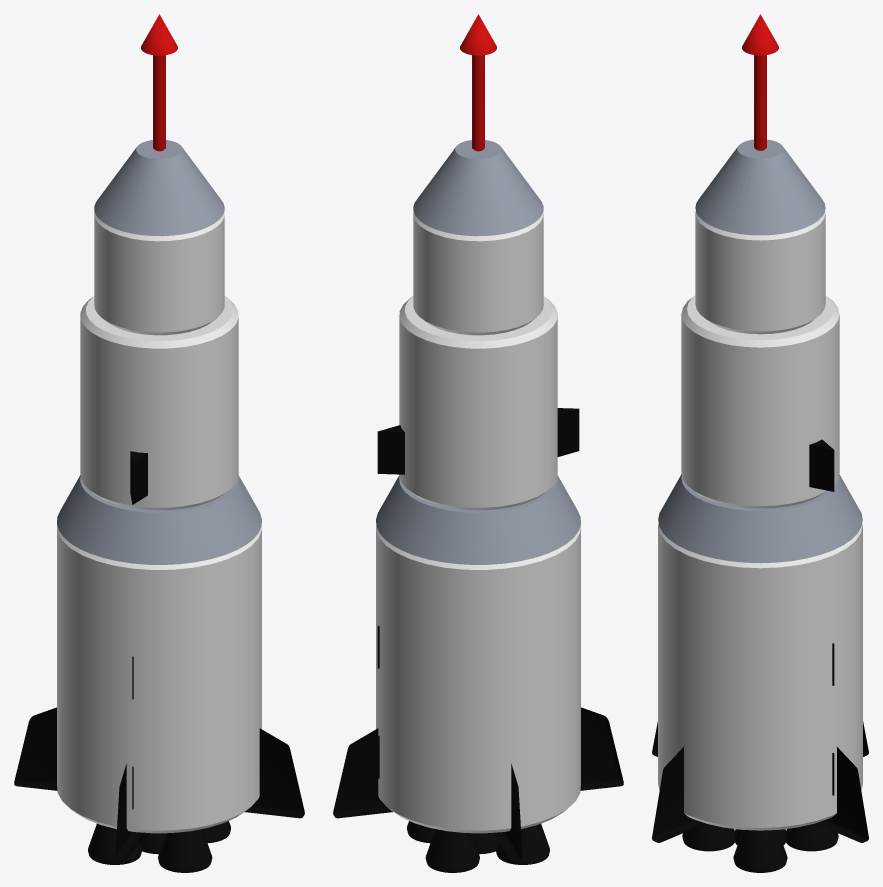
Rendered from Rocket_12_SaturnStack.obj.
3 views of the same model, side by side, from view 1: azimuth 30°, elevation 25°; view 2: azimuth 150°, elevation 25°; view 3: azimuth 270°, elevation 25° (orthographic).
Visible parts, largest first — view 1: R12_Stage1, R12_Stage2, R12_Stage3, R12_Interstage, R12_Capsule, R12_Fin_4, R12_Fin_2, R12_Nozzle_5, R12_Tower, R12_Nozzle_3, R12_Fin_3, R12_TowerTip (+1 smaller); view 2: R12_Stage1, R12_Stage2, R12_Stage3, R12_Interstage, R12_Capsule, R12_Fin, R12_Fin_3, R12_Roll_3, R12_Nozzle_4, R12_Tower, R12_Nozzle_3, R12_Fin_2 (+1 smaller); view 3: R12_Stage1, R12_Stage2, R12_Stage3, R12_Interstage, R12_Capsule, R12_Fin, R12_Fin_4, R12_Nozzle_2, R12_Tower, R12_Roll_3, R12_Nozzle_4, R12_Nozzle_5 (+1 smaller).
Boxes of the visible parts, bbox=[...] form: R12_Stage1: bbox=[57, 525, 261, 833]; R12_Stage2: bbox=[80, 296, 238, 510]; R12_Stage3: bbox=[94, 211, 224, 335]; R12_Interstage: bbox=[57, 475, 261, 564]; R12_Capsule: bbox=[94, 140, 224, 236]; R12_Fin_4: bbox=[245, 728, 304, 818]; R12_Fin_2: bbox=[14, 707, 57, 790]; R12_Nozzle_5: bbox=[158, 829, 212, 872]; R12_Tower: bbox=[153, 55, 165, 151]; R12_Nozzle_3: bbox=[88, 823, 141, 864]; R12_Fin_3: bbox=[115, 764, 143, 861]; R12_TowerTip: bbox=[141, 14, 177, 55]; R12_Stage1: bbox=[376, 525, 580, 833]; R12_Stage2: bbox=[399, 296, 557, 510]; R12_Stage3: bbox=[413, 211, 543, 335]; R12_Interstage: bbox=[376, 475, 580, 564]; R12_Capsule: bbox=[413, 140, 543, 236]; R12_Fin: bbox=[333, 728, 392, 818]; R12_Fin_3: bbox=[580, 707, 623, 790]; R12_Roll_3: bbox=[377, 408, 579, 474]; R12_Nozzle_4: bbox=[425, 829, 479, 872]; R12_Tower: bbox=[472, 55, 484, 151]; R12_Nozzle_3: bbox=[496, 823, 549, 864]; R12_Fin_2: bbox=[494, 764, 522, 861]; R12_Stage1: bbox=[658, 523, 862, 830]; R12_Stage2: bbox=[681, 295, 839, 508]; R12_Stage3: bbox=[695, 211, 825, 334]; R12_Interstage: bbox=[658, 474, 862, 563]; R12_Capsule: bbox=[695, 139, 825, 235]; R12_Fin: bbox=[816, 746, 868, 842]; R12_Fin_4: bbox=[652, 746, 704, 842]; R12_Nozzle_2: bbox=[733, 830, 787, 872]; R12_Tower: bbox=[754, 55, 766, 150]; R12_Roll_3: bbox=[809, 439, 834, 491]; R12_Nozzle_4: bbox=[786, 823, 838, 851]; R12_Nozzle_5: bbox=[682, 823, 734, 851].
Size of the model in its own units: 2.33 by 9.8 by 2.33.
